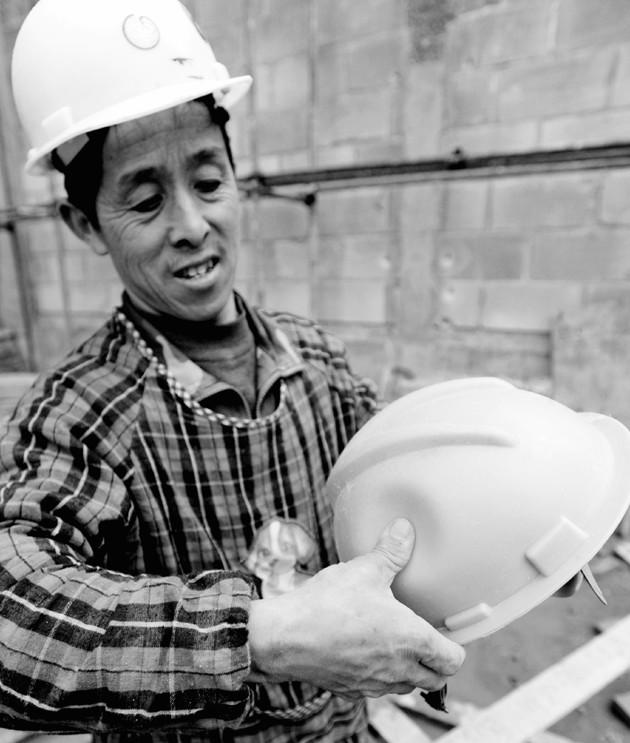helmet: (329, 381, 629, 648), (7, 3, 260, 167)
